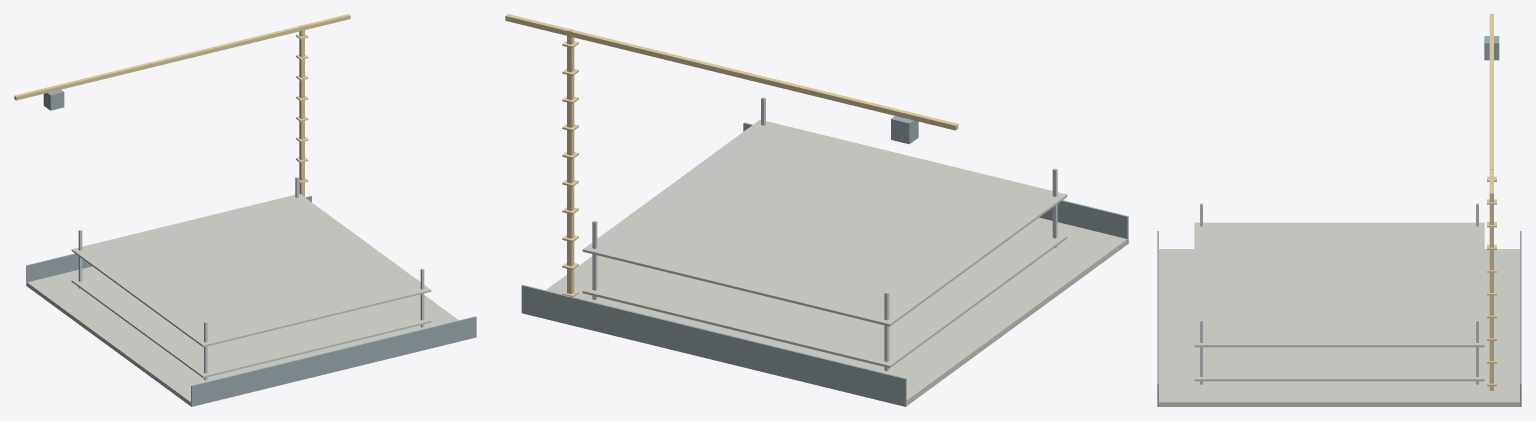
File: remaster_site_3_1.glb
3 views of the same model, side by side, from view 1: azimuth 30°, elevation 25°; view 2: azimuth 150°, elevation 25°; view 3: azimuth 270°, elevation 25° (orthographic). The views are drawn at different scales.
Visible parts, largest first — view 1: remaster_site_3_1 stone, remaster_site_3_1 roof, remaster_site_3_1 gold, remaster_site_3_1 metal; view 2: remaster_site_3_1 stone, remaster_site_3_1 roof, remaster_site_3_1 gold, remaster_site_3_1 metal; view 3: remaster_site_3_1 stone, remaster_site_3_1 gold, remaster_site_3_1 roof, remaster_site_3_1 metal.
Part boxes in pixels (left/top/right/bottom): remaster_site_3_1 stone: left=26, top=193, right=458, bottom=405; remaster_site_3_1 roof: left=26, top=89, right=476, bottom=406; remaster_site_3_1 gold: left=14, top=14, right=350, bottom=196; remaster_site_3_1 metal: left=78, top=177, right=424, bottom=380; remaster_site_3_1 stone: left=546, top=119, right=1127, bottom=406; remaster_site_3_1 roof: left=521, top=116, right=1128, bottom=406; remaster_site_3_1 gold: left=505, top=14, right=958, bottom=297; remaster_site_3_1 metal: left=592, top=97, right=1057, bottom=371; remaster_site_3_1 stone: left=1158, top=222, right=1520, bottom=406; remaster_site_3_1 gold: left=1487, top=14, right=1496, bottom=390; remaster_site_3_1 roof: left=1157, top=36, right=1521, bottom=406; remaster_site_3_1 metal: left=1200, top=203, right=1478, bottom=384.
Bounding box in the file's own units: 34 × 20 × 29.14.
